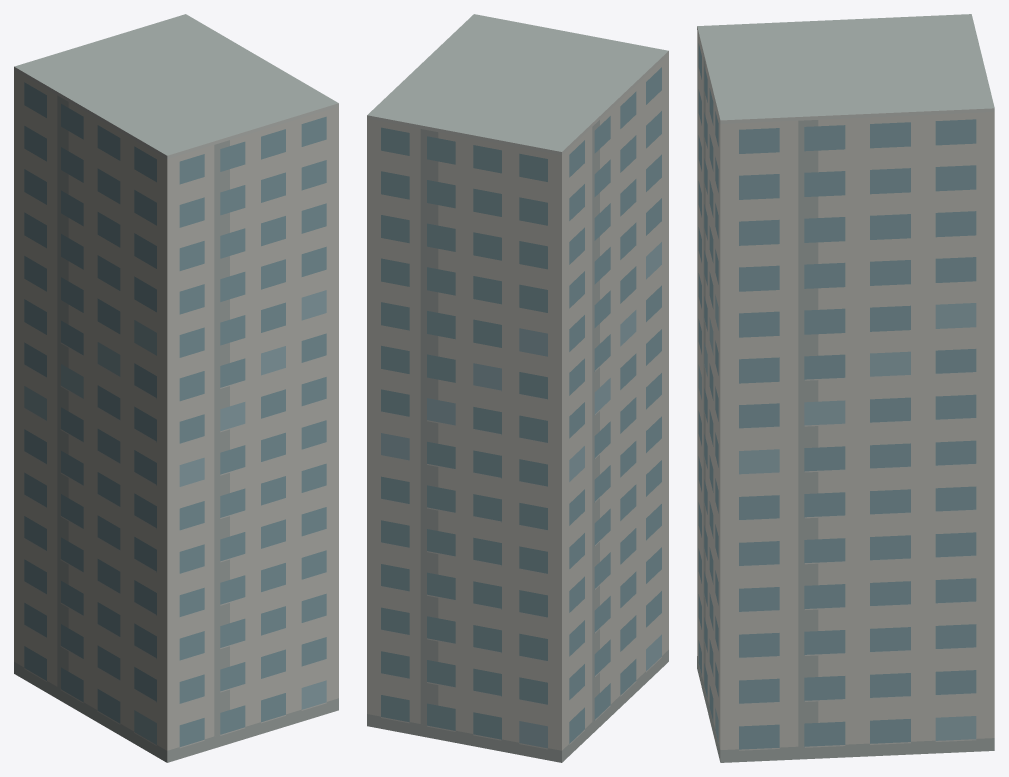
The model's file is residential-528865b5-9487-4870-b388-98c0ebbf88d1.glb.
3 renders of one model, left to right at view 1: azimuth 30°, elevation 25°; view 2: azimuth 150°, elevation 25°; view 3: azimuth 270°, elevation 25°, orthographic. The views are drawn at different scales.
Visible parts, largest first — view 1: residential-528865b5-9487-4870-b388-98c0ebbf88d1.tmp; view 2: residential-528865b5-9487-4870-b388-98c0ebbf88d1.tmp; view 3: residential-528865b5-9487-4870-b388-98c0ebbf88d1.tmp.
Boxes of the visible parts, bbox=[...] form: residential-528865b5-9487-4870-b388-98c0ebbf88d1.tmp: bbox=[14, 14, 338, 762]; residential-528865b5-9487-4870-b388-98c0ebbf88d1.tmp: bbox=[367, 14, 668, 762]; residential-528865b5-9487-4870-b388-98c0ebbf88d1.tmp: bbox=[697, 14, 994, 762].
Size of the model in its own units: 14.93 by 42 by 17.64.
